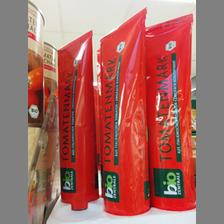Tomatensauce: (97, 6, 149, 222), (143, 12, 195, 222), (55, 28, 100, 222)
